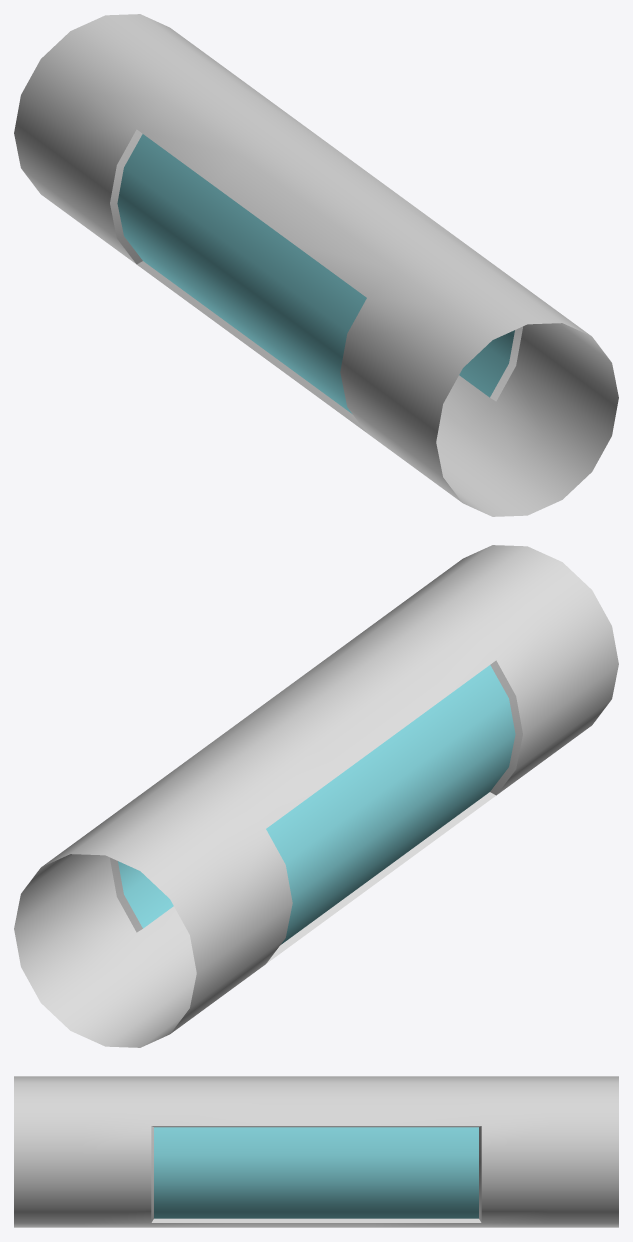
File: mdl_pipe_substance_bend.fbx
The picture shows the model from 3 angles, top to bottom: view 1: azimuth 30°, elevation 25°; view 2: azimuth 150°, elevation 25°; view 3: azimuth 270°, elevation 25°; orthographic projection. The views are drawn at different scales.
Parts seen in each view (by area): view 1: mesh_pipe_substance_bend; view 2: mesh_pipe_substance_bend; view 3: mesh_pipe_substance_bend.
Boxes of the visible parts, x1,y1,x2,y2 form: mesh_pipe_substance_bend: (14,14,618,516); mesh_pipe_substance_bend: (14,545,618,1047); mesh_pipe_substance_bend: (14,1076,618,1227).
Size of the model in its own units: 1 by 1 by 4.
